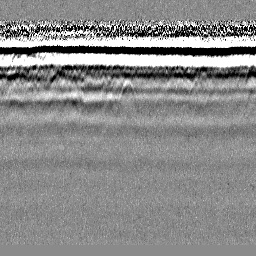cavity: (117, 78, 138, 106)
